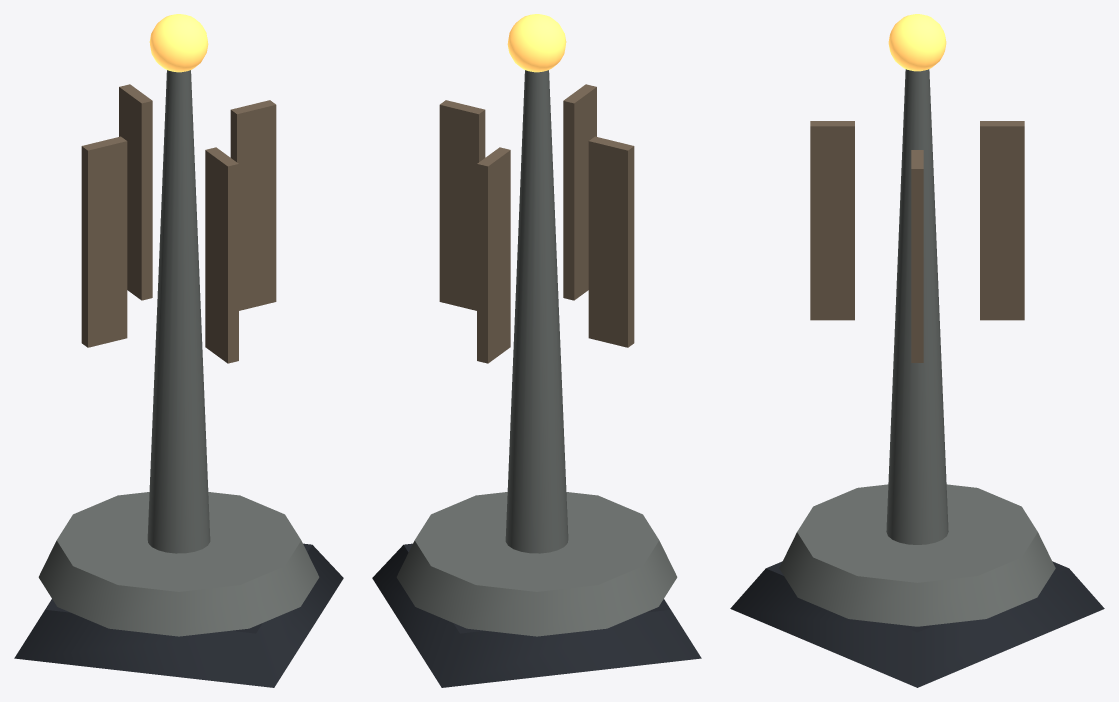
Rendered from compact_high_gravity--command_relay.glb.
3 views of the same model, side by side, from view 1: azimuth 30°, elevation 25°; view 2: azimuth 150°, elevation 25°; view 3: azimuth 270°, elevation 25° (orthographic).
Visible parts, largest first — view 1: rotation_bearing_2, relay_mast_3, mount_adapter_1, relay_vane_6, relay_vane_4, relay_vane_5, relay_vane_7, signal_tip_8; view 2: rotation_bearing_2, relay_mast_3, mount_adapter_1, relay_vane_6, relay_vane_4, relay_vane_7, relay_vane_5, signal_tip_8; view 3: rotation_bearing_2, relay_mast_3, mount_adapter_1, relay_vane_5, relay_vane_7, relay_vane_4, signal_tip_8.
Boxes of the visible parts, x1,y1,x2,y2 form: rotation_bearing_2: [38, 492, 319, 636]; relay_mast_3: [147, 70, 210, 553]; mount_adapter_1: [14, 543, 343, 687]; relay_vane_6: [81, 136, 127, 347]; relay_vane_4: [230, 100, 276, 310]; relay_vane_5: [205, 147, 238, 363]; relay_vane_7: [119, 84, 152, 300]; signal_tip_8: [149, 14, 208, 72]; rotation_bearing_2: [396, 492, 677, 636]; relay_mast_3: [505, 70, 568, 553]; mount_adapter_1: [372, 543, 701, 687]; relay_vane_6: [588, 136, 634, 347]; relay_vane_4: [439, 100, 485, 310]; relay_vane_7: [477, 147, 510, 363]; relay_vane_5: [563, 84, 596, 300]; signal_tip_8: [507, 14, 566, 72]; rotation_bearing_2: [779, 484, 1055, 626]; relay_mast_3: [886, 69, 948, 544]; mount_adapter_1: [730, 561, 1104, 687]; relay_vane_5: [810, 121, 854, 320]; relay_vane_7: [980, 121, 1024, 320]; relay_vane_4: [911, 150, 923, 362]; signal_tip_8: [888, 14, 946, 71].
Bounding box in the file's own units: 5.04 × 8.79 × 5.04.
